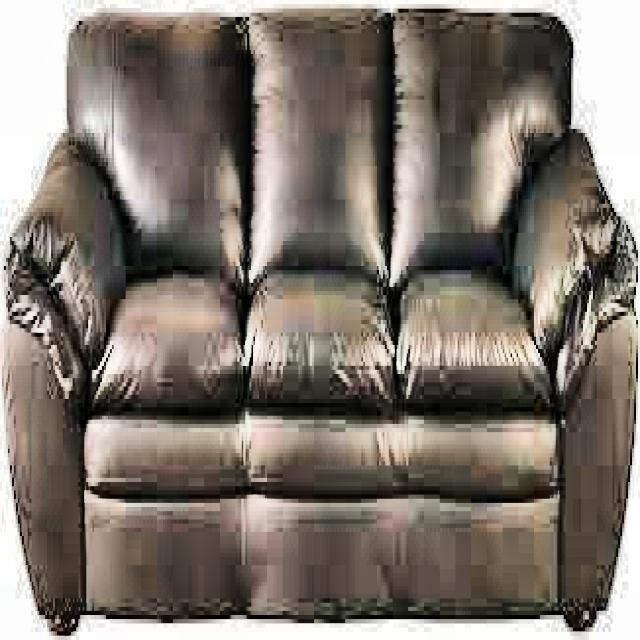sofa: (4, 16, 638, 632)
